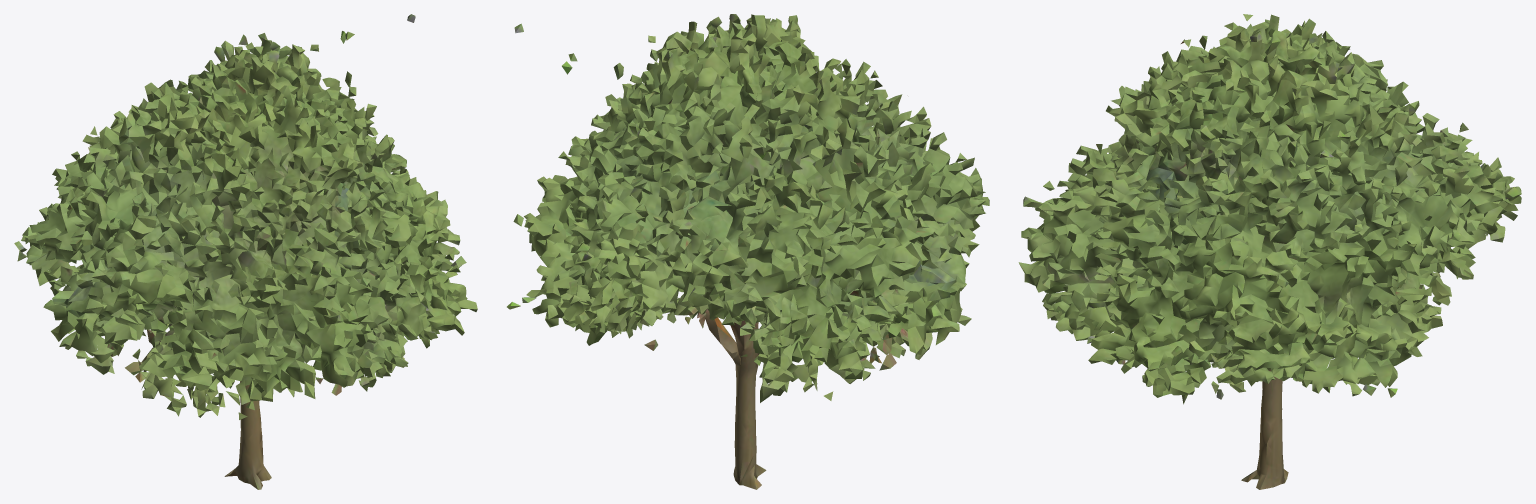
The model's file is mature_tree_001_001.glb.
3 views of the same model, side by side, from view 1: azimuth 30°, elevation 25°; view 2: azimuth 150°, elevation 25°; view 3: azimuth 270°, elevation 25° (orthographic). The views are drawn at different scales.
Visible parts, largest first — view 1: mature_tree_001_001_LOD0; view 2: mature_tree_001_001_LOD0; view 3: mature_tree_001_001_LOD0.
Part boxes in pixels (x1,y1,x2,y2): mature_tree_001_001_LOD0: [14, 14, 477, 489]; mature_tree_001_001_LOD0: [507, 14, 989, 489]; mature_tree_001_001_LOD0: [1018, 14, 1521, 489].
Size of what is drawn, in the model's own units: 8.6 by 9 by 8.89.
1 material, 1 textured.
